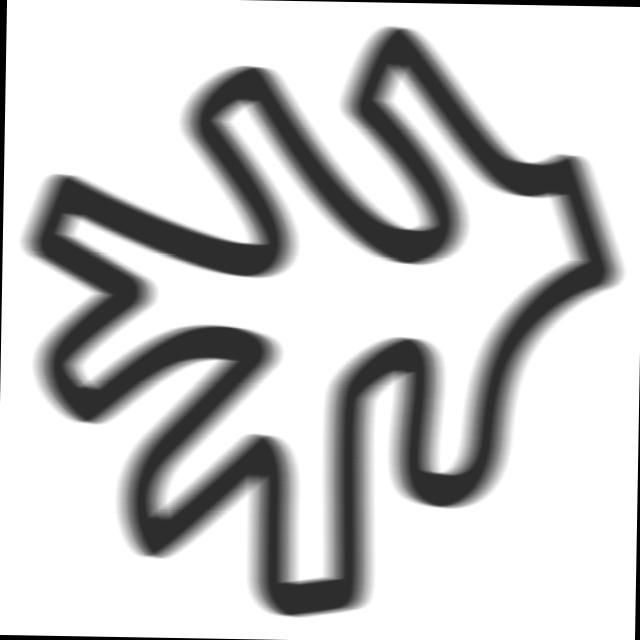coral: (6, 9, 639, 630)
